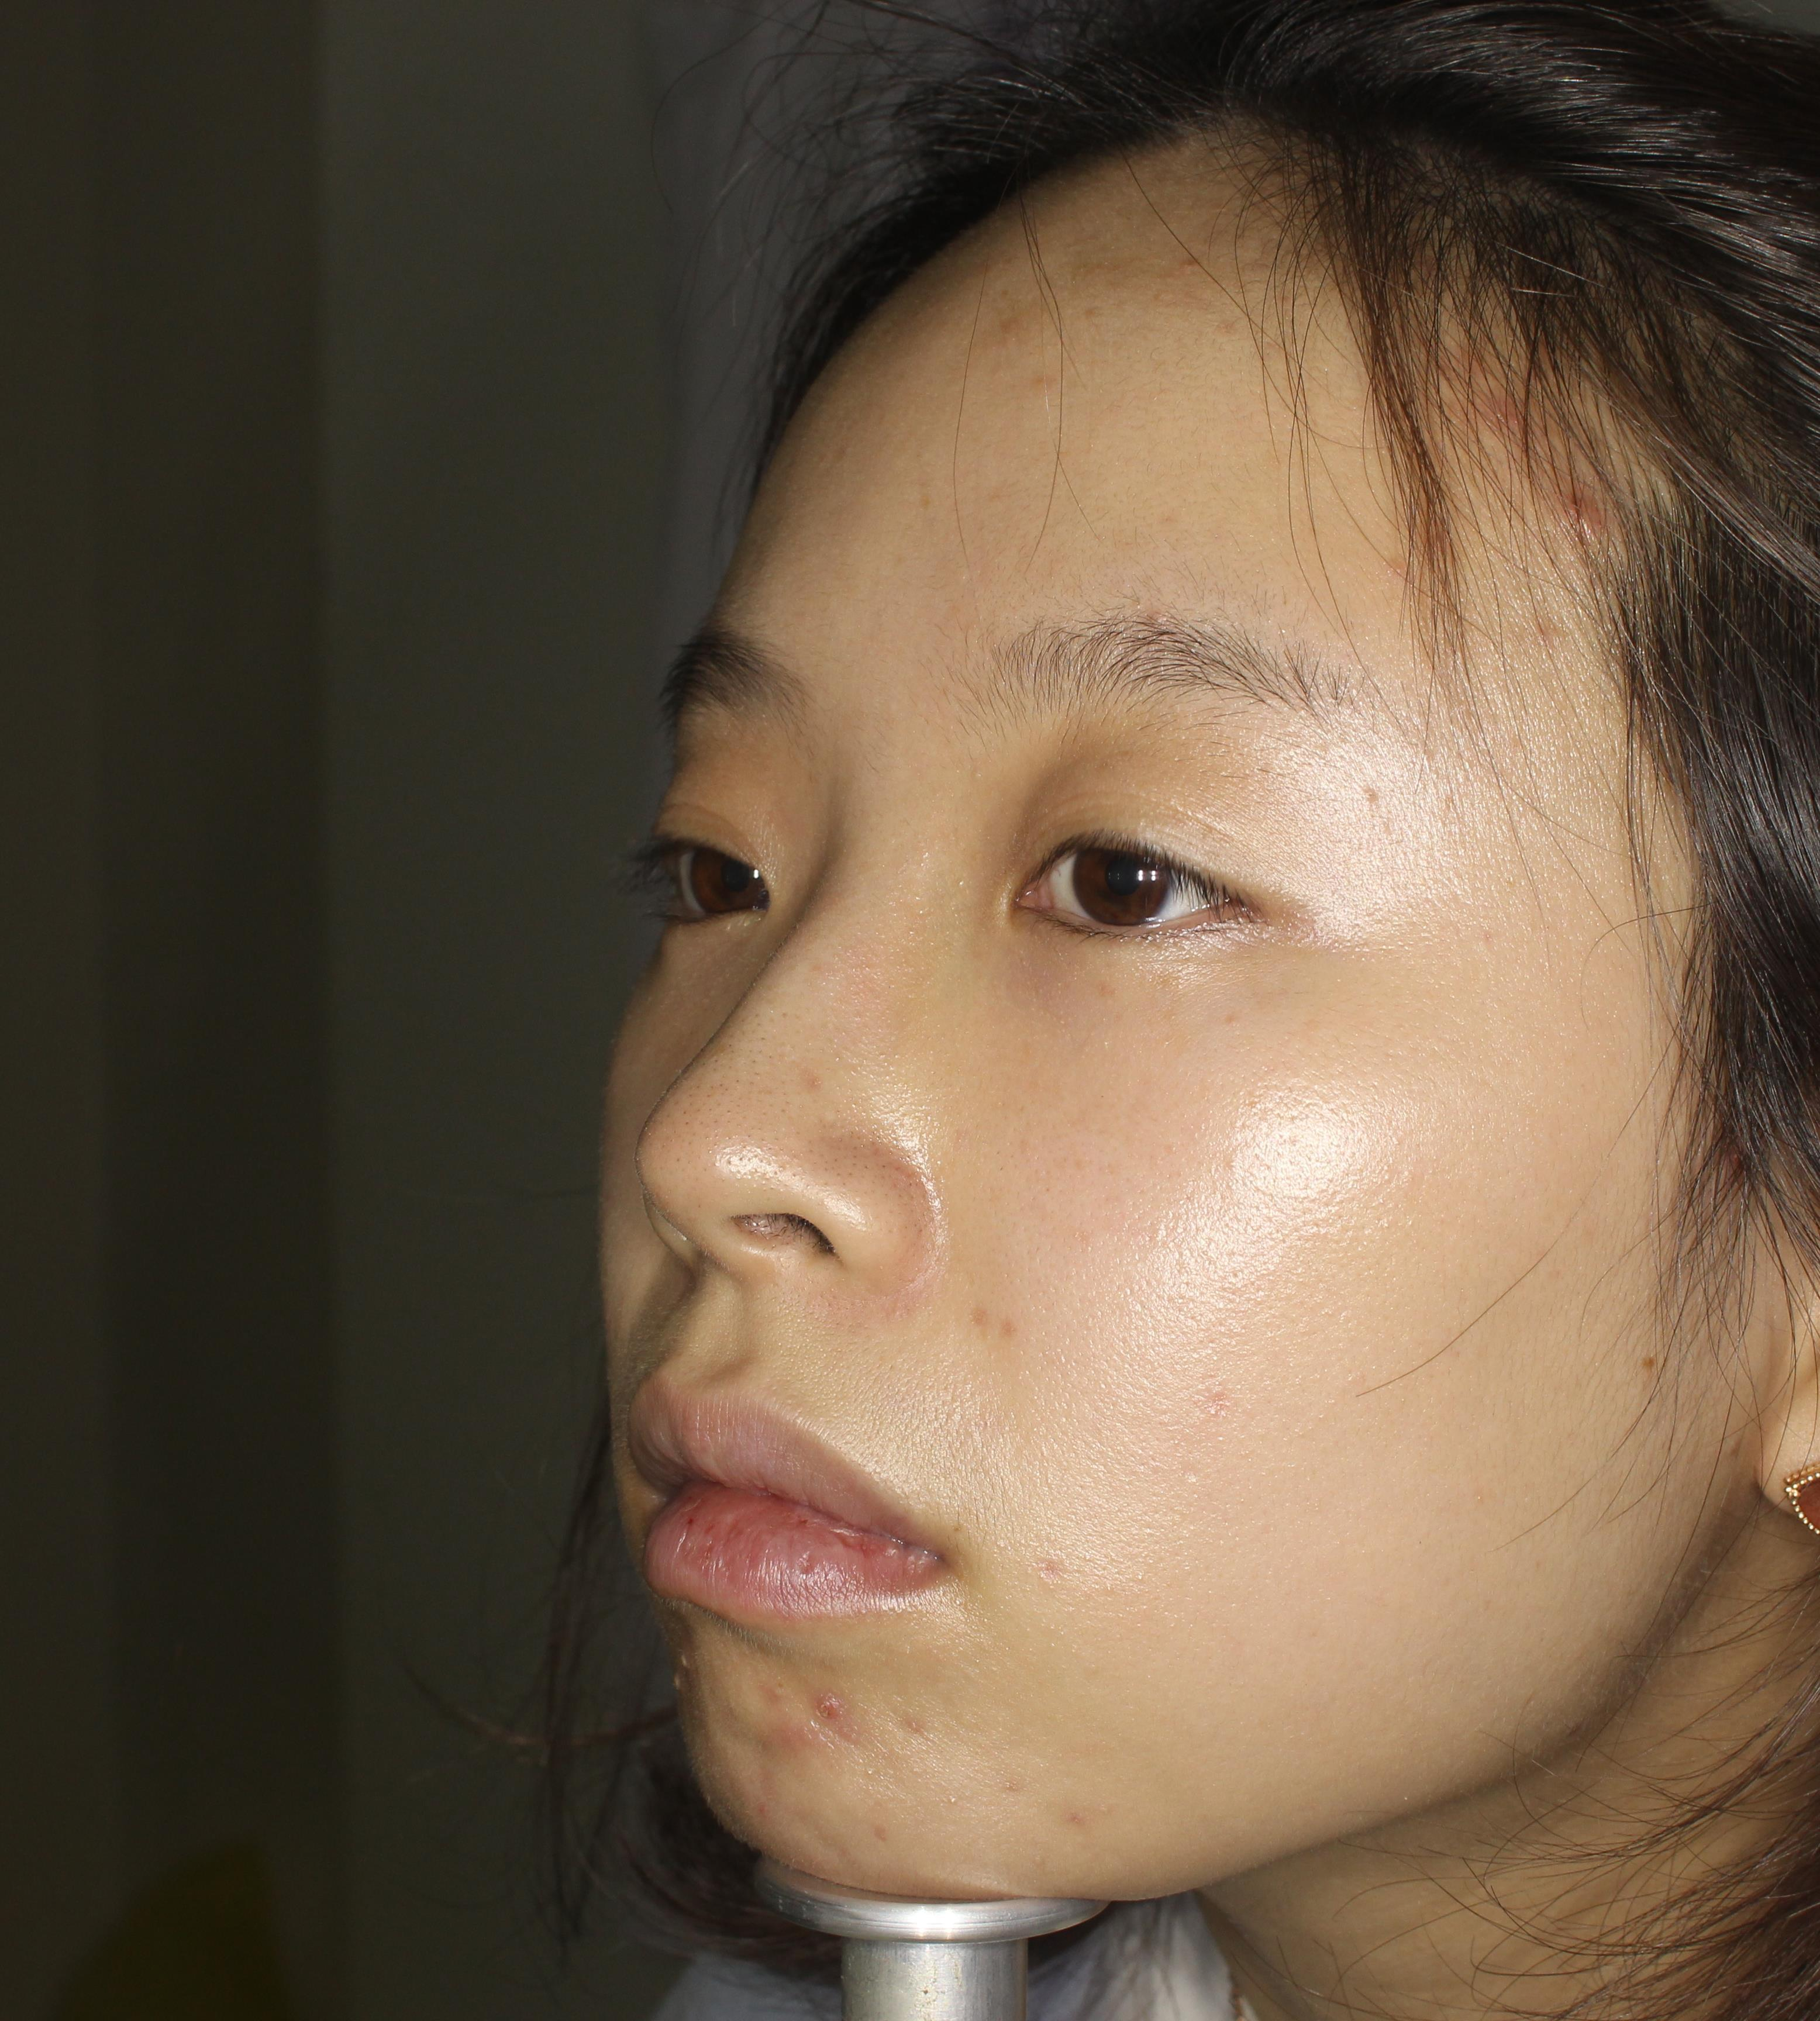fore: (1441, 330, 1507, 451), (740, 1693, 817, 1777), (1551, 465, 1632, 544)
